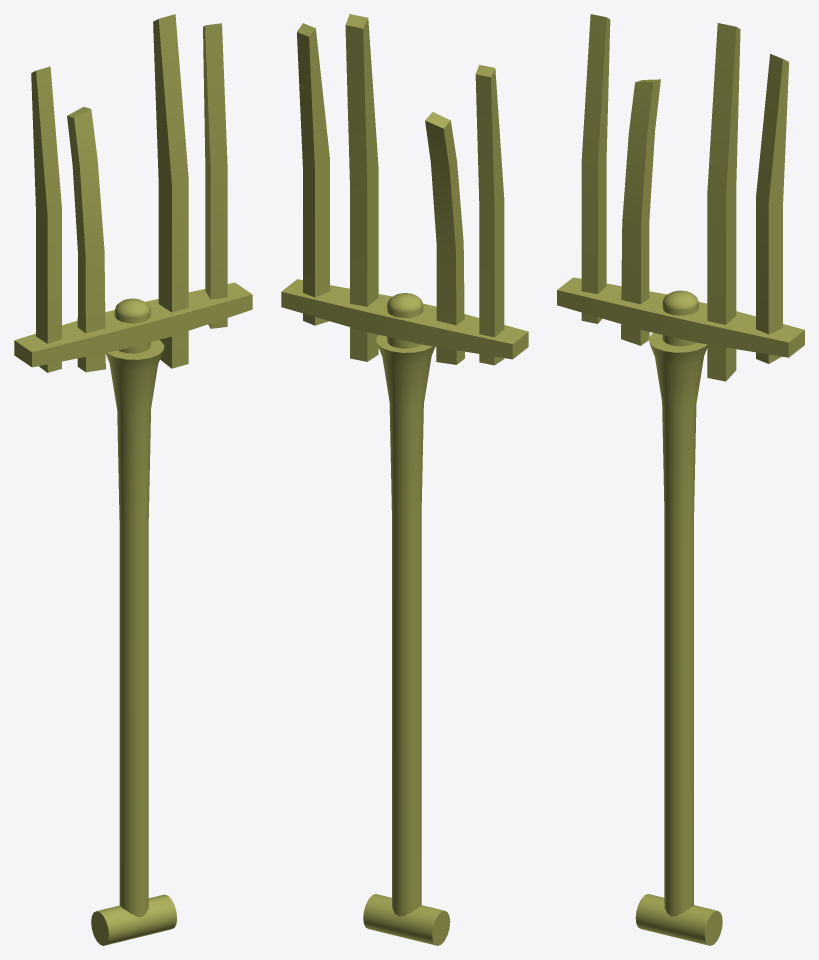
File: Peasant_Pitchfork.fbx
3 views of the same model, side by side, from view 1: azimuth 30°, elevation 25°; view 2: azimuth 150°, elevation 25°; view 3: azimuth 330°, elevation 25° (orthographic).
Parts seen in each view (by area): view 1: picthfork; view 2: picthfork; view 3: picthfork.
Part boxes in pixels (<box>): picthfork: <box>14,14,252,945</box>; picthfork: <box>281,14,528,945</box>; picthfork: <box>557,14,804,945</box>.
Bounding box in the file's own units: 60.9 × 233 × 14.68.
